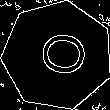O_W: (28, 30, 87, 81)
